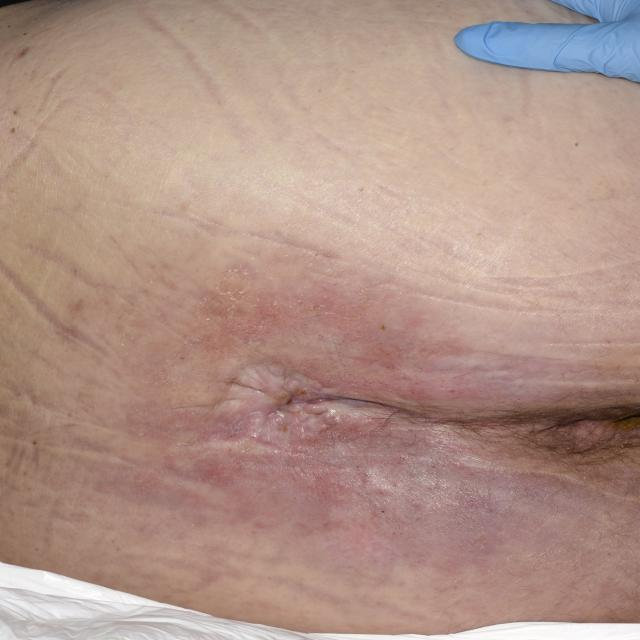wound: (241, 342, 638, 532)
